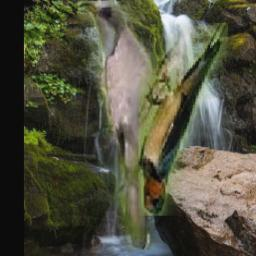Cuckoo: (78, 1, 155, 249)
Swallow: (138, 24, 228, 217)
